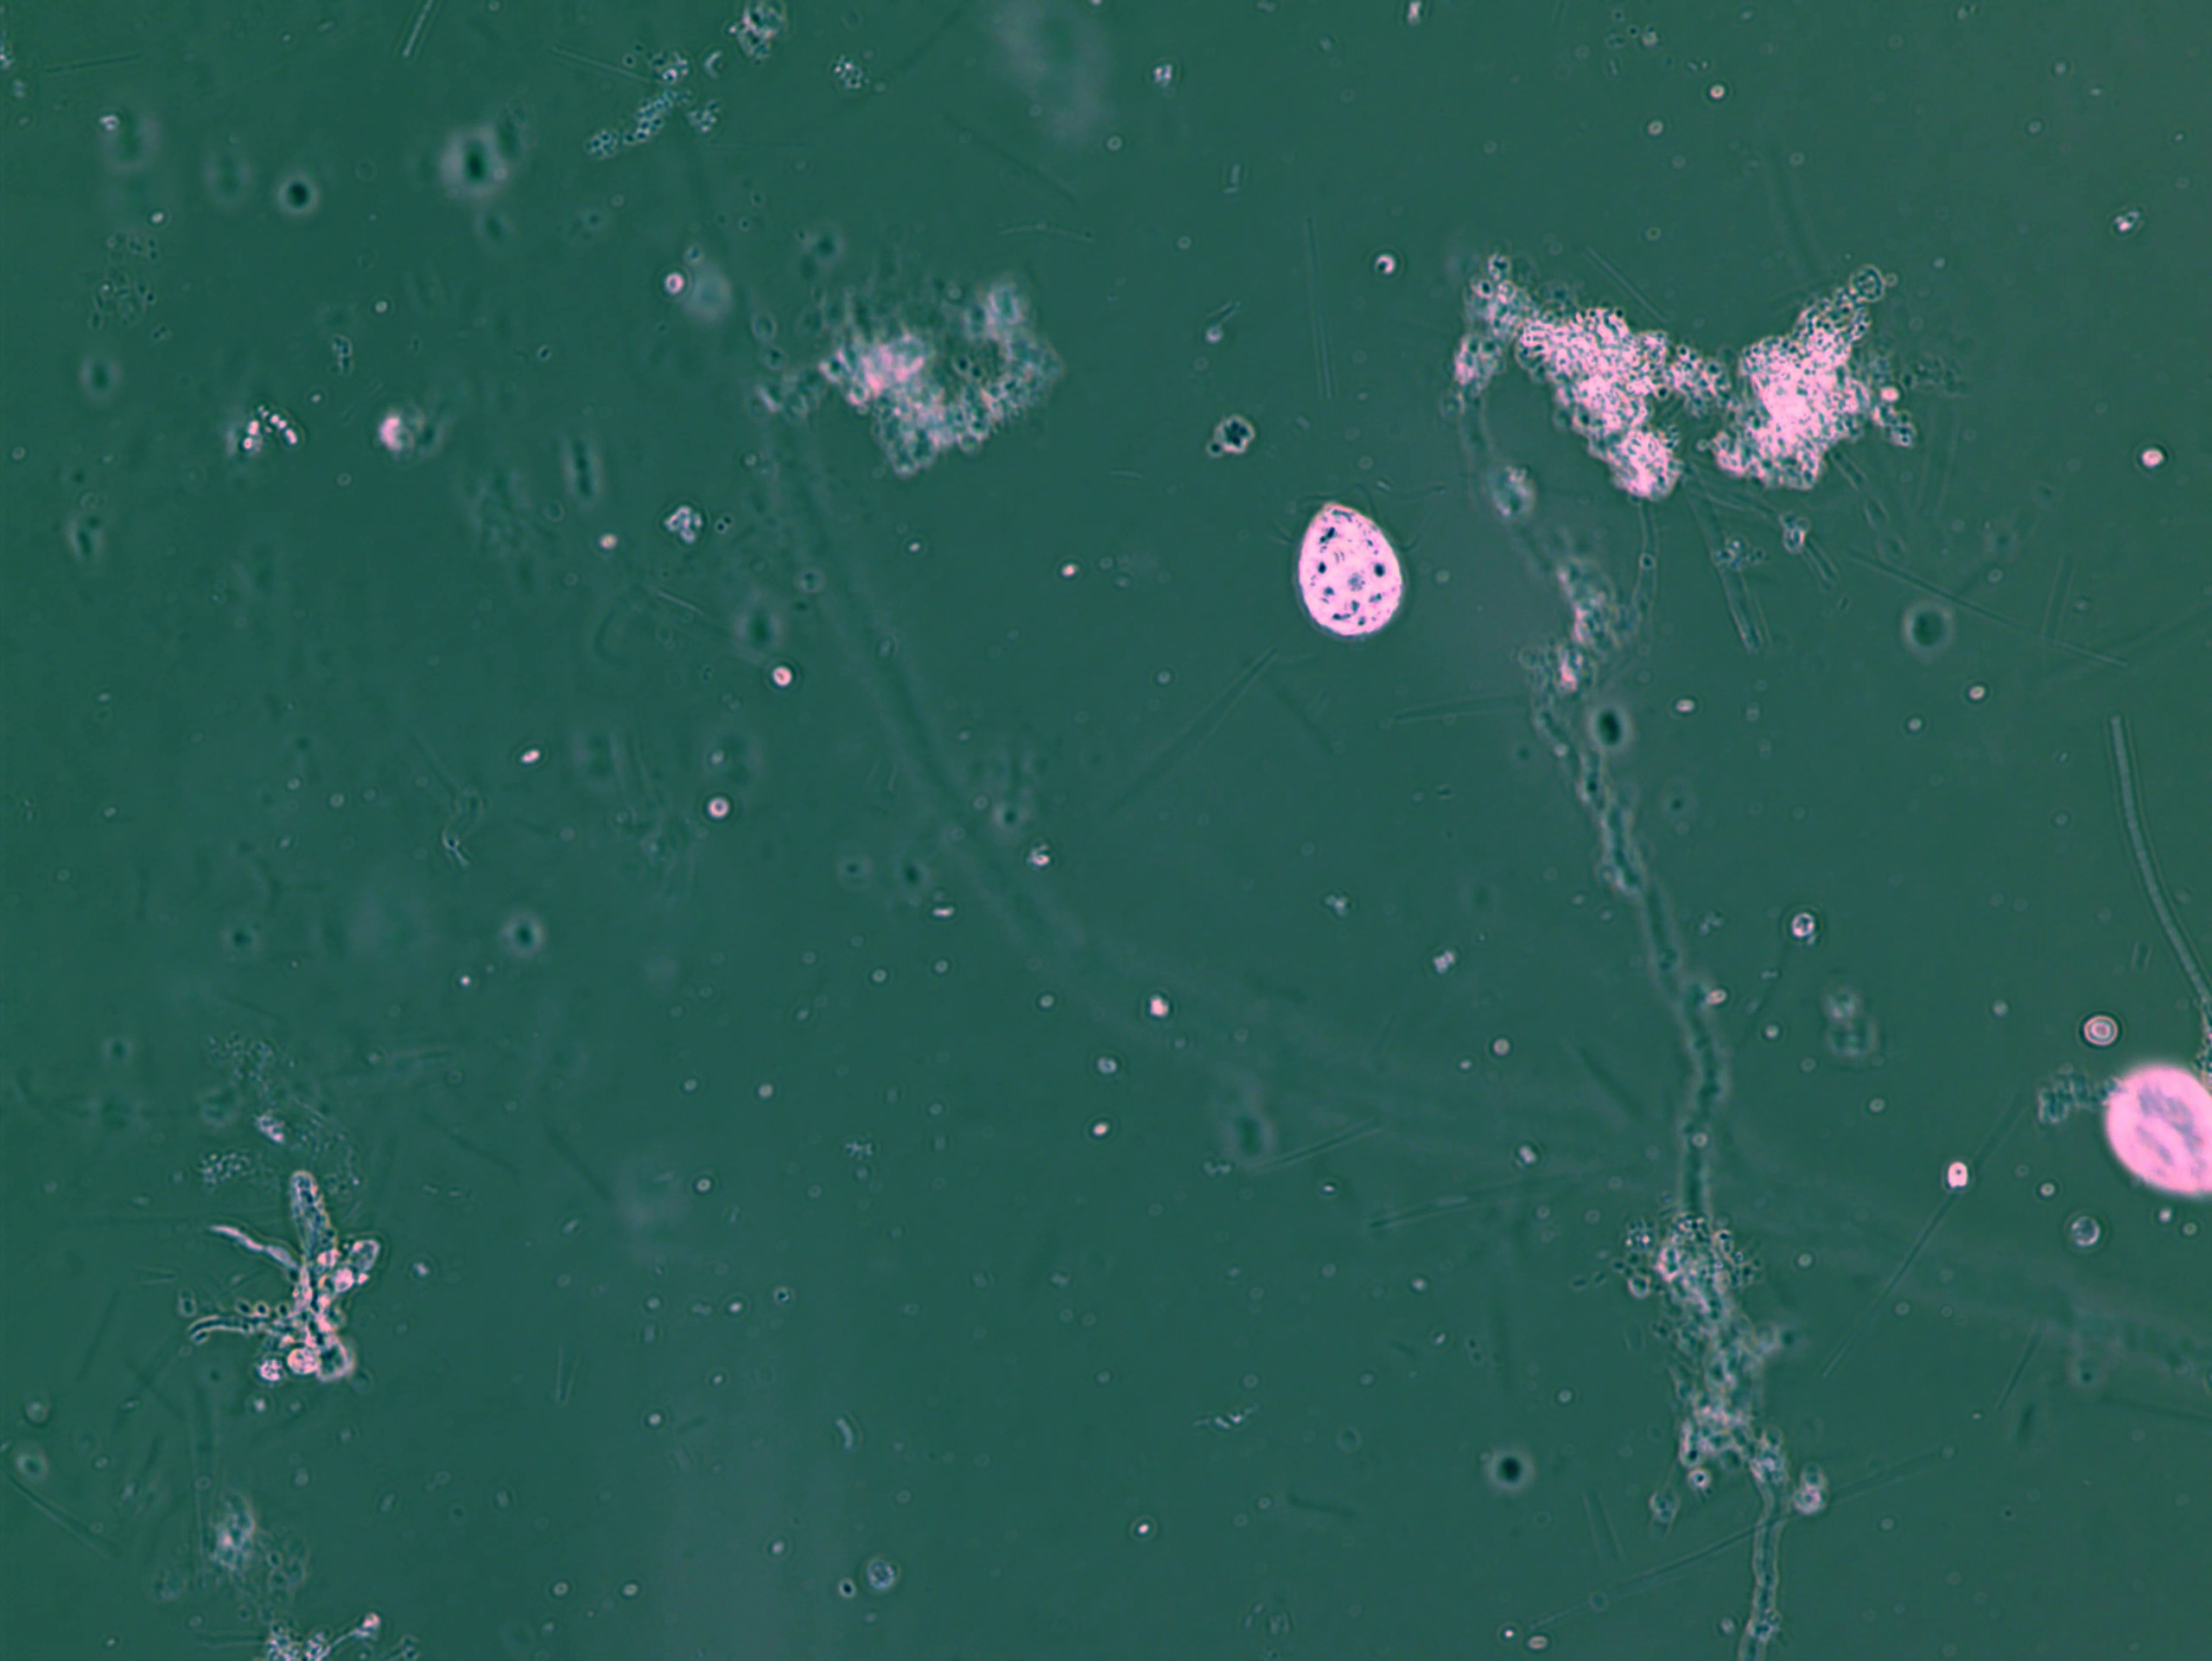depth:0: (1275, 468, 1429, 649)
